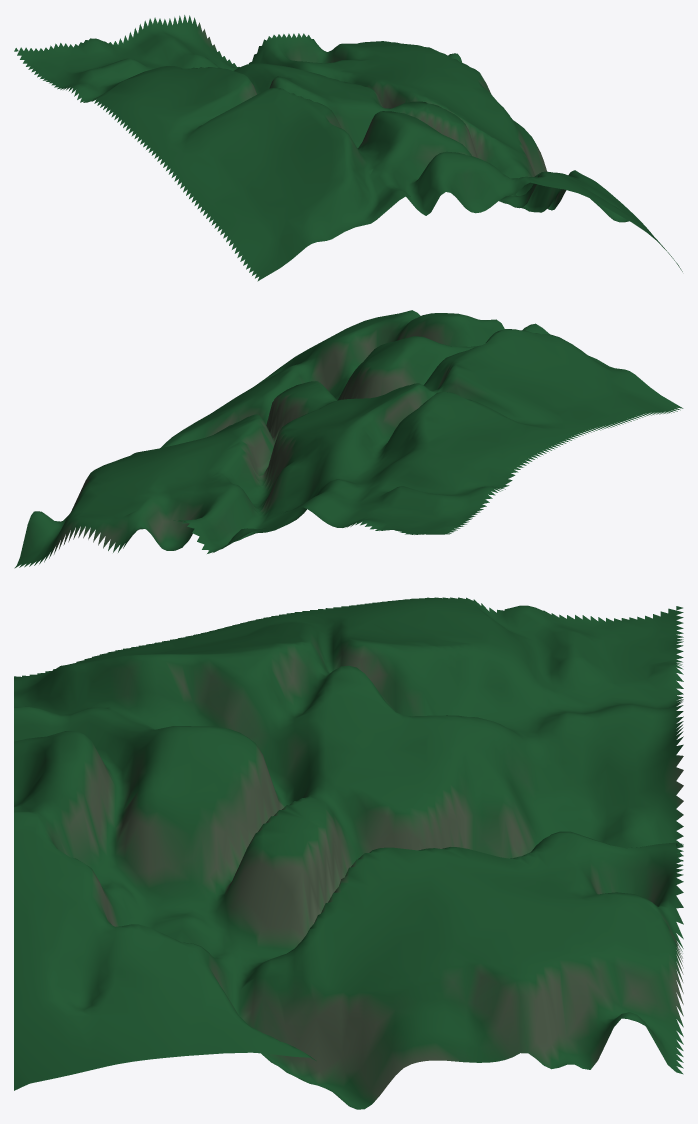
File: payo_land_x1_y2_lod1.glb
3 views of the same model, one above another, from view 1: azimuth 30°, elevation 25°; view 2: azimuth 150°, elevation 25°; view 3: azimuth 270°, elevation 25° (orthographic). The views are drawn at different scales.
Visible parts, largest first — view 1: payo_land_x1_y2; view 2: payo_land_x1_y2; view 3: payo_land_x1_y2.
Boxes of the visible parts, x1,y1,x2,y2 form: payo_land_x1_y2: (14,15,682,281); payo_land_x1_y2: (14,310,683,568); payo_land_x1_y2: (14,597,683,1109).
Size of the model in its own units: 258 by 114 by 258.
